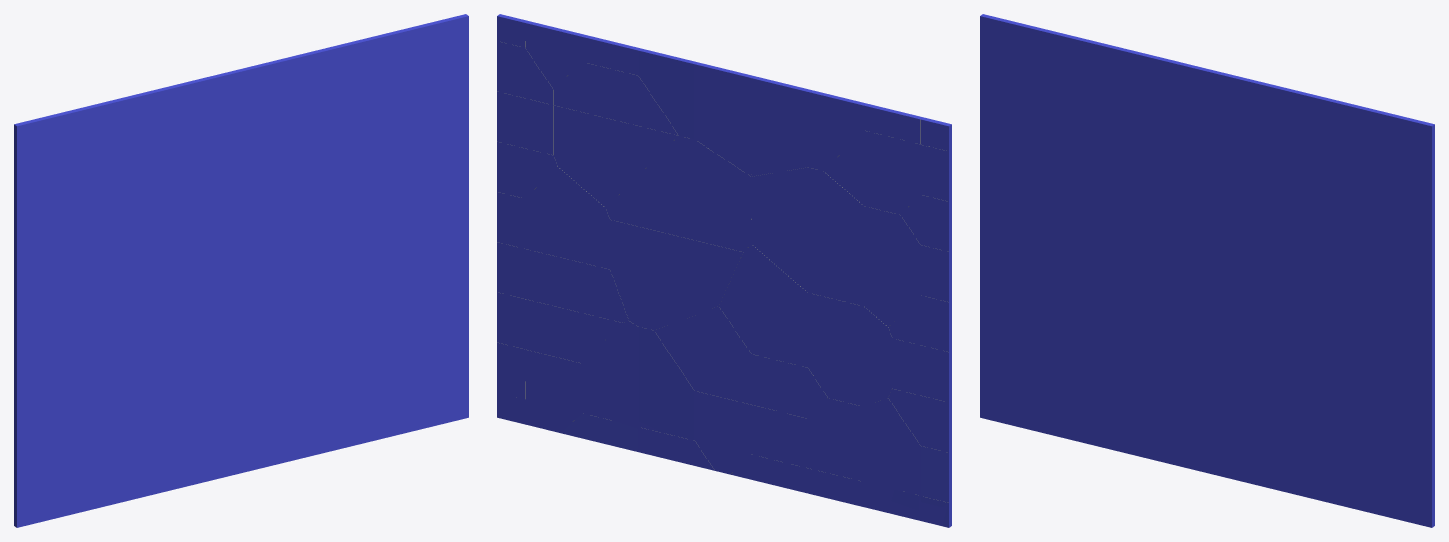
Rendered from glass.glb.
The picture shows the model from 3 angles, left to right: view 1: azimuth 30°, elevation 25°; view 2: azimuth 150°, elevation 25°; view 3: azimuth 330°, elevation 25°; orthographic projection.
Parts seen in each view (by area): view 1: Cube_A_Cover; view 2: Cube_cell.027, Cube_A_Cover, Cube_cell.088, Cube_cell.058, Cube_cell.037, Cube_cell.081, Cube_cell.031, Cube_cell.097, Cube_cell.051, Cube_cell.057, Cube_cell.043, Cube_cell.042 (+37 smaller); view 3: Cube_A_Cover.
Part boxes in pixels (<box>): Cube_A_Cover: <box>14,14,468,527</box>; Cube_cell.027: <box>751,167,863,306</box>; Cube_A_Cover: <box>497,14,951,527</box>; Cube_cell.088: <box>606,136,751,251</box>; Cube_cell.058: <box>610,220,742,330</box>; Cube_cell.037: <box>808,293,892,406</box>; Cube_cell.081: <box>553,105,678,207</box>; Cube_cell.031: <box>719,244,807,367</box>; Cube_cell.097: <box>525,167,609,269</box>; Cube_cell.051: <box>654,306,751,404</box>; Cube_cell.057: <box>824,131,920,214</box>; Cube_cell.043: <box>864,206,920,326</box>; Cube_cell.042: <box>751,78,807,176</box>; Cube_A_Cover: <box>980,14,1434,527</box>.
Size of the model in its own units: 4.37 by 3.71 by 0.048.
